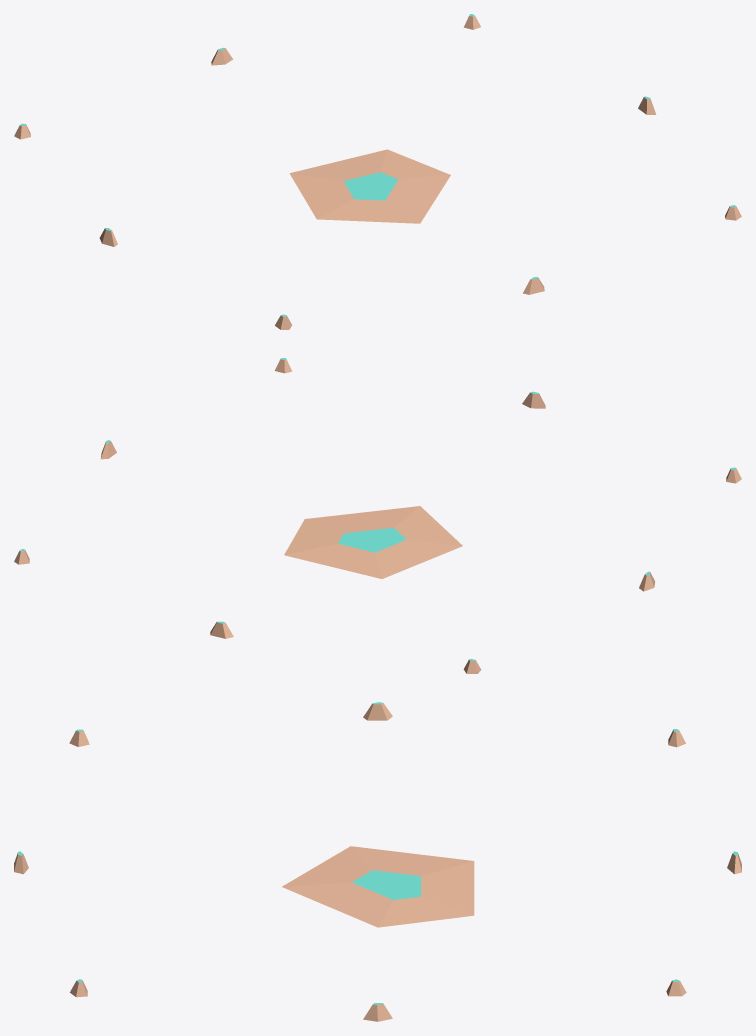
Rendered from snowfield-arena.glb.
The picture shows the model from 3 angles, top to bottom: view 1: azimuth 30°, elevation 25°; view 2: azimuth 150°, elevation 25°; view 3: azimuth 270°, elevation 25°; orthographic projection. The views are drawn at different scales.
Parts seen in each view (by area): view 1: platform; view 2: platform; view 3: platform.
Part boxes in pixels (x1,y1,x2,y2): platform: (289,149,450,223); platform: (284,506,462,578); platform: (282,846,474,927).
Size of the model in its own units: 12.25 by 0.6177 by 12.25.
